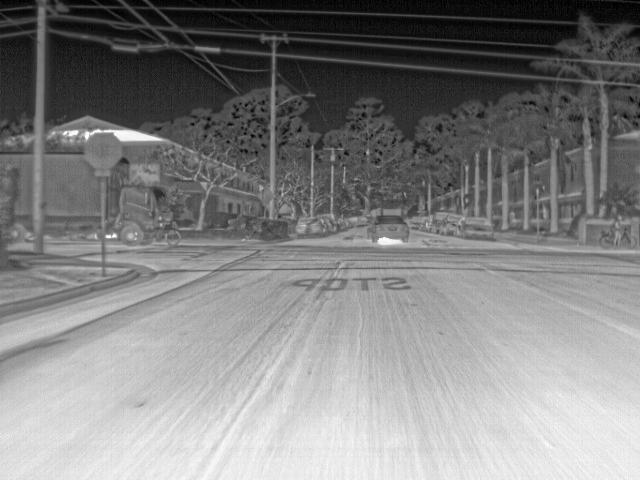car: (368, 215, 411, 243), (458, 216, 496, 240), (296, 216, 326, 237), (439, 214, 463, 237), (432, 211, 454, 233), (326, 212, 340, 232), (320, 215, 333, 235), (337, 216, 349, 230), (345, 216, 357, 230), (425, 214, 433, 234), (356, 215, 369, 227), (410, 212, 419, 229), (419, 214, 427, 232)
person: (613, 215, 626, 249)
